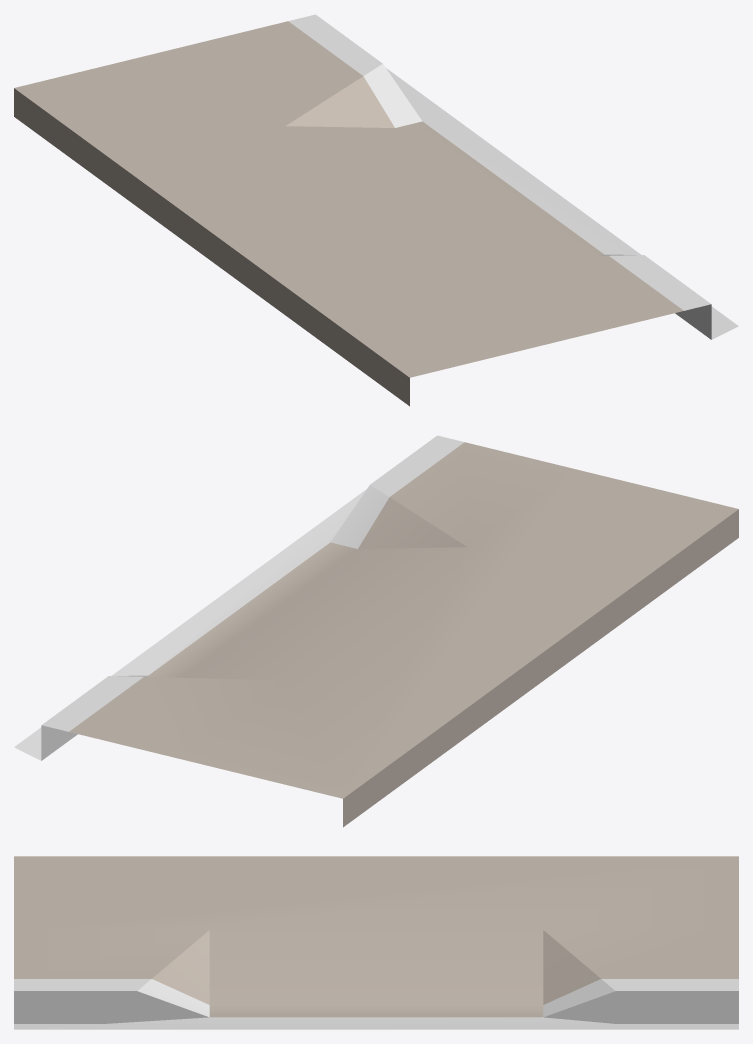
The model's file is Calçada_Acesso_Carros.fbx.
3 renders of one model, top to bottom at view 1: azimuth 30°, elevation 25°; view 2: azimuth 150°, elevation 25°; view 3: azimuth 270°, elevation 25°, orthographic. The views are drawn at different scales.
Parts seen in each view (by area): view 1: Calçada_Acesso_Carros; view 2: Calçada_Acesso_Carros; view 3: Calçada_Acesso_Carros.
Part boxes in pixels (box(x1,y1,x2,y2)): Calçada_Acesso_Carros: box(14, 14, 738, 406); Calçada_Acesso_Carros: box(14, 435, 738, 827); Calçada_Acesso_Carros: box(14, 856, 738, 1029).
Size of the model in its own units: 240 by 25 by 500.
